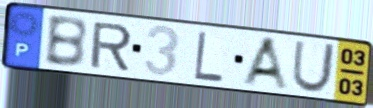3: (142, 24, 185, 80)
A: (239, 35, 292, 94)
B: (42, 15, 89, 70)
L: (192, 29, 225, 85)
R: (87, 20, 134, 72)
U: (289, 39, 338, 95)
